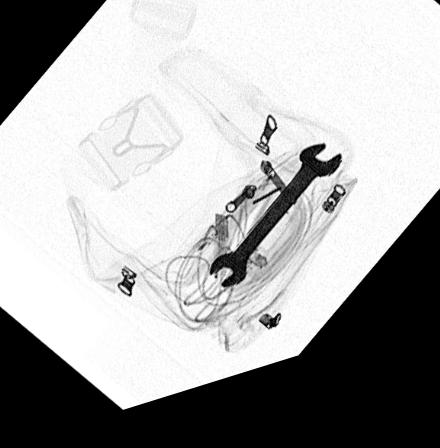Wrench: (208, 162, 345, 303)
